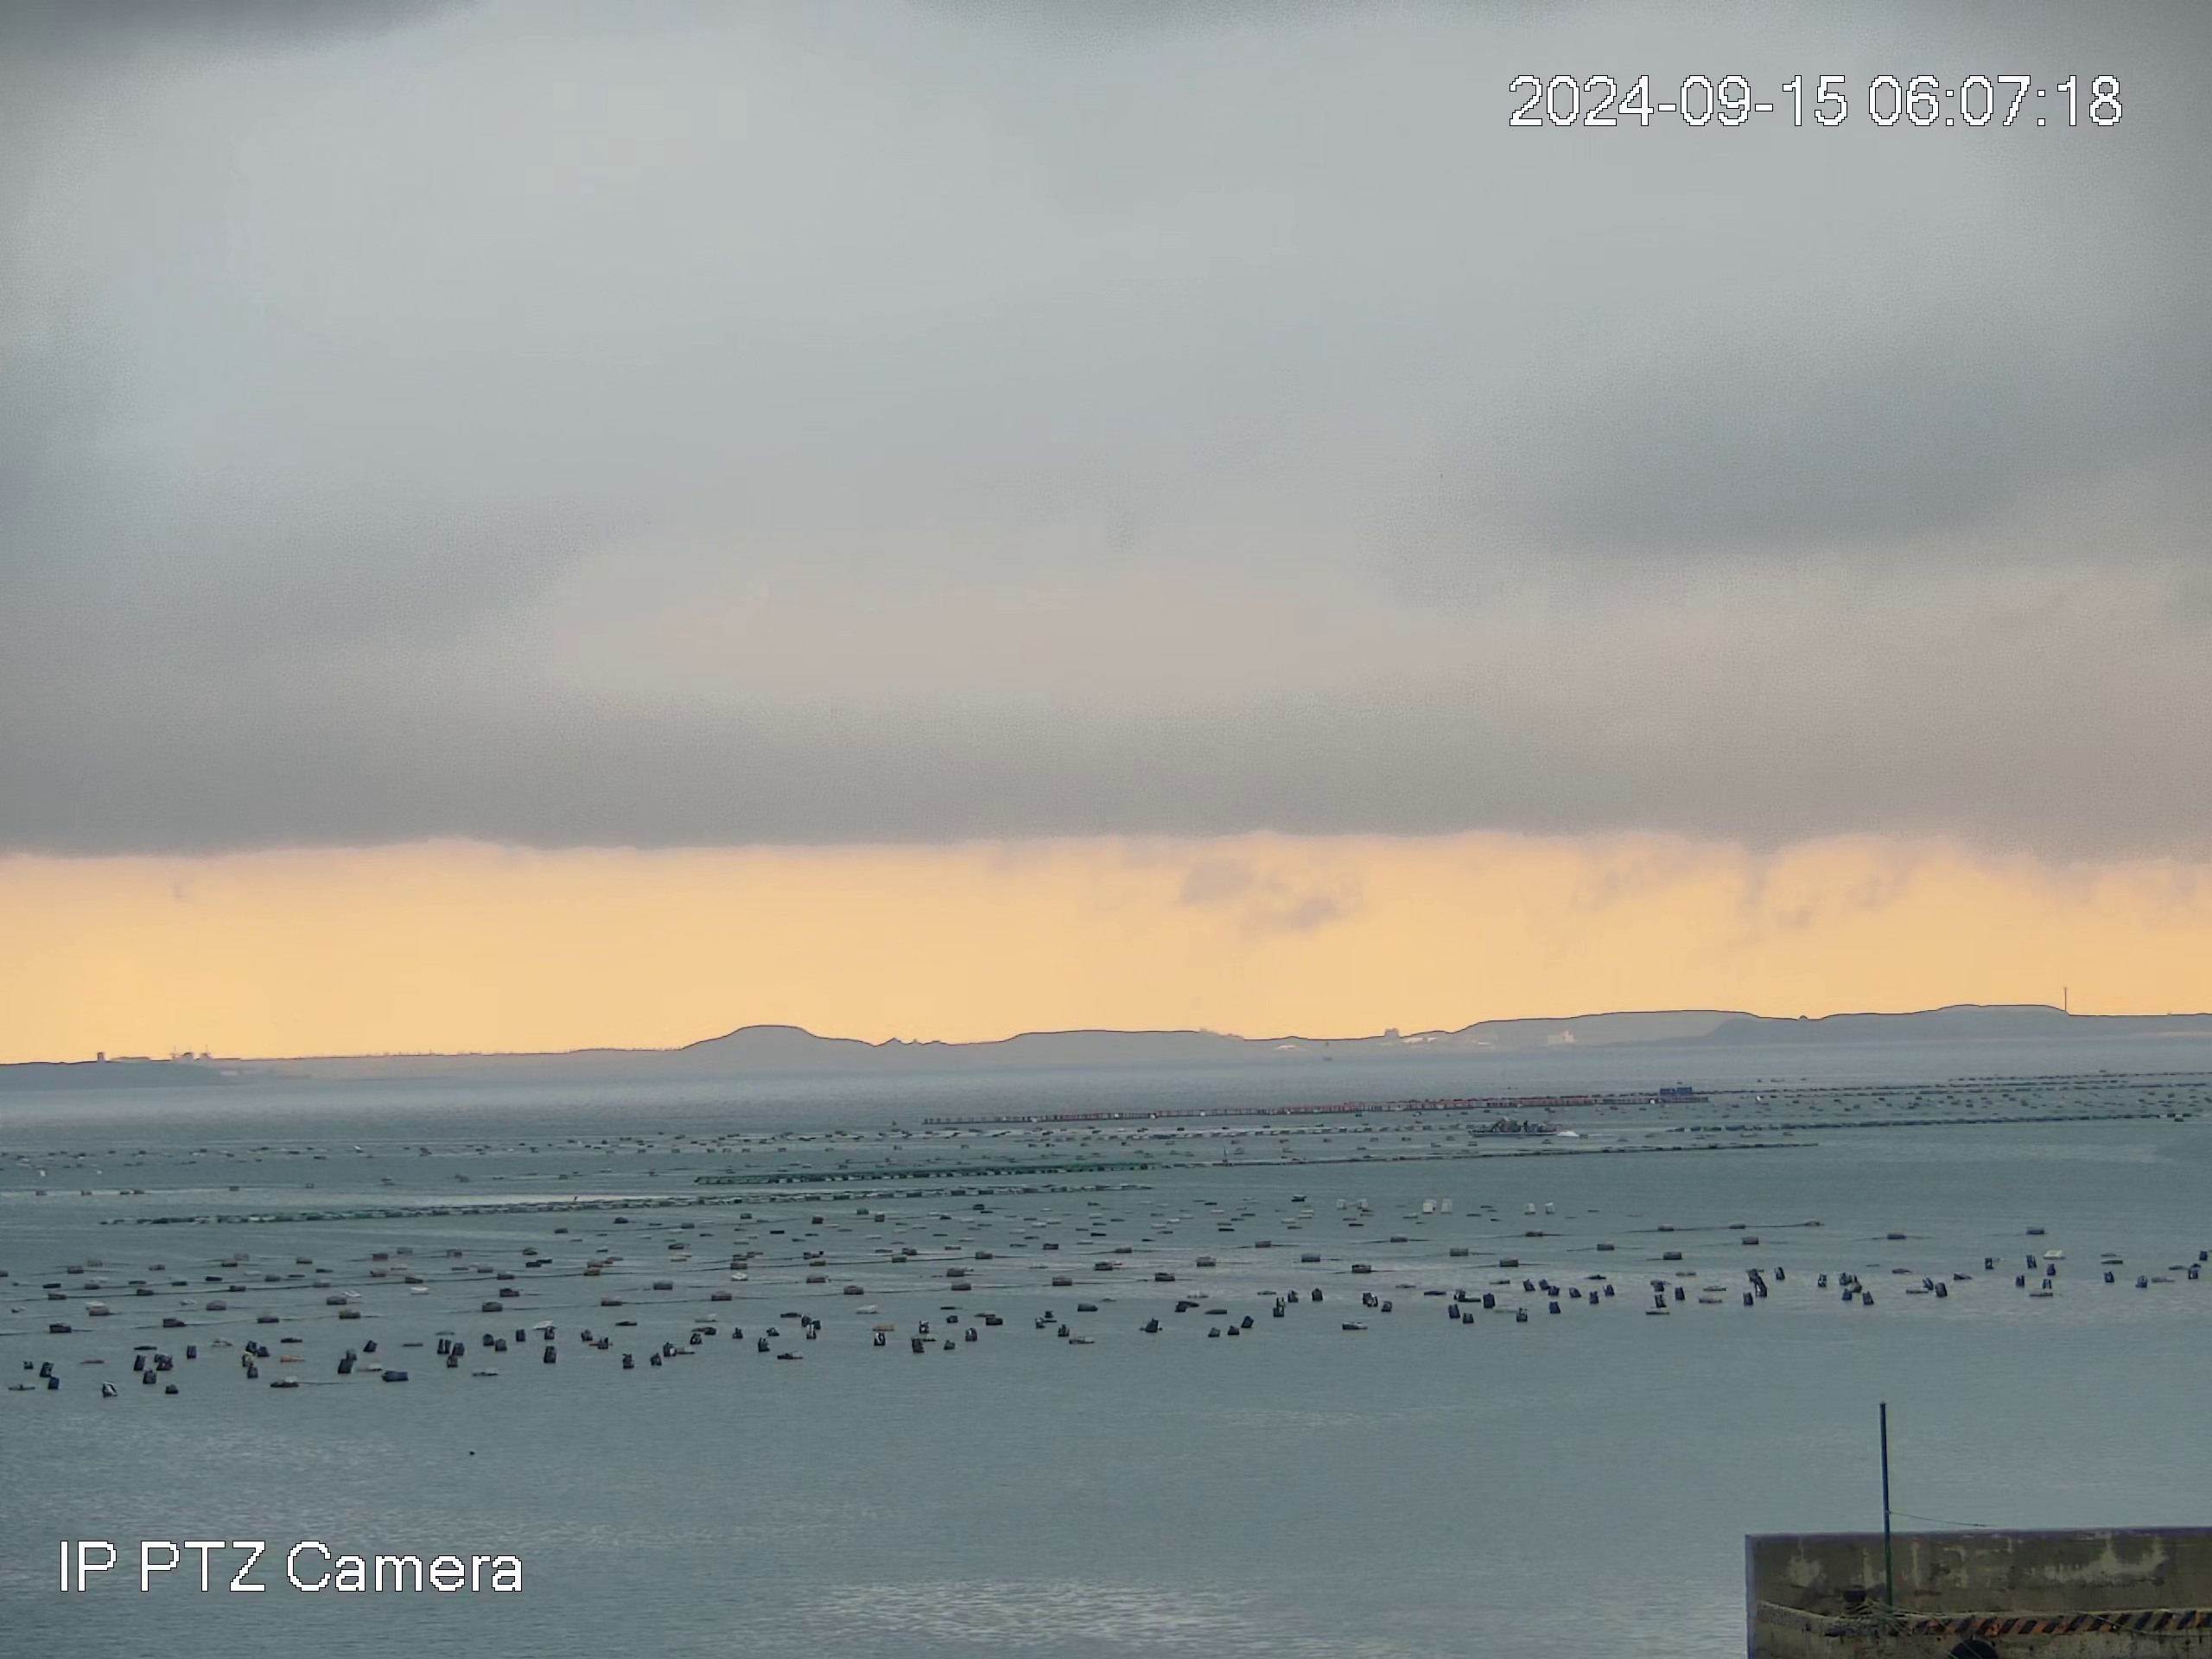boat: (1467, 1108, 1559, 1140)
